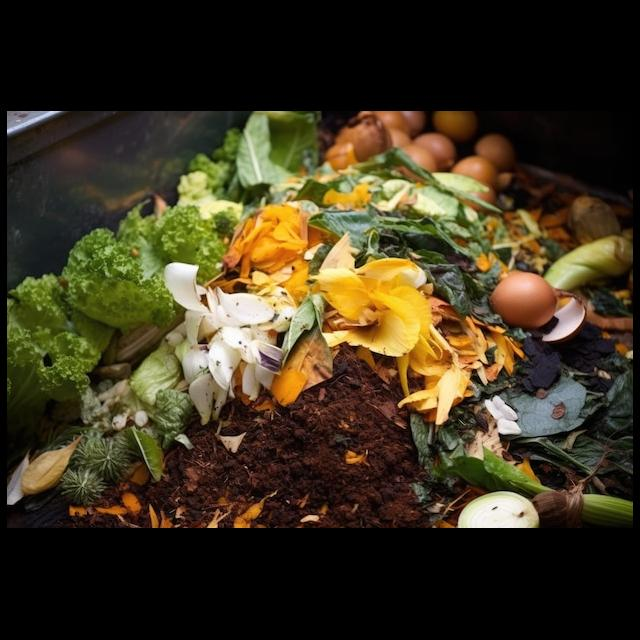food_waste: (165, 261, 330, 415), (452, 439, 633, 528), (310, 255, 440, 361), (52, 239, 168, 329), (7, 428, 111, 512), (194, 431, 281, 522), (271, 402, 361, 486), (538, 242, 583, 350), (455, 479, 537, 528), (497, 271, 556, 337), (446, 164, 507, 211), (360, 112, 424, 145), (337, 123, 390, 160), (412, 130, 464, 166), (434, 112, 487, 143), (457, 156, 502, 191), (483, 135, 520, 177), (401, 144, 439, 172)
